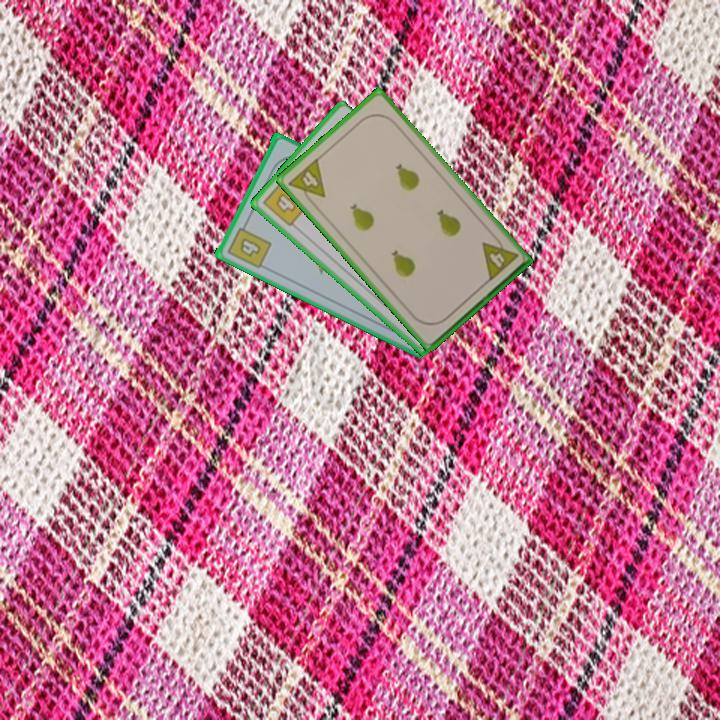4b: (259, 174, 311, 229), (223, 218, 273, 271)
4p: (285, 154, 328, 209), (478, 231, 521, 284)
